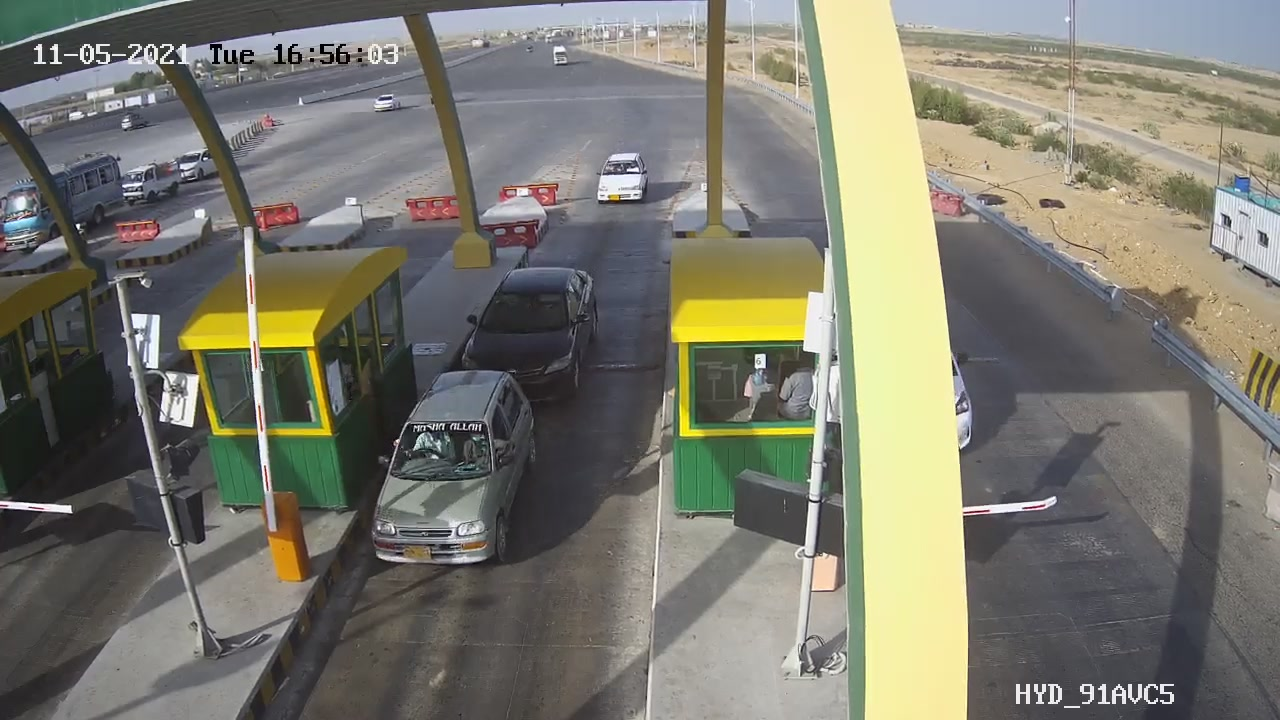F1: (361, 356, 557, 584), (445, 251, 628, 411)
